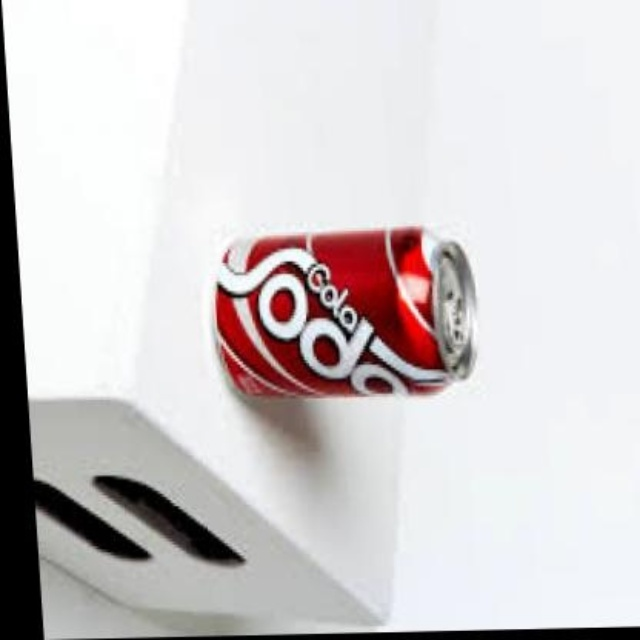trash: (215, 226, 474, 395)
